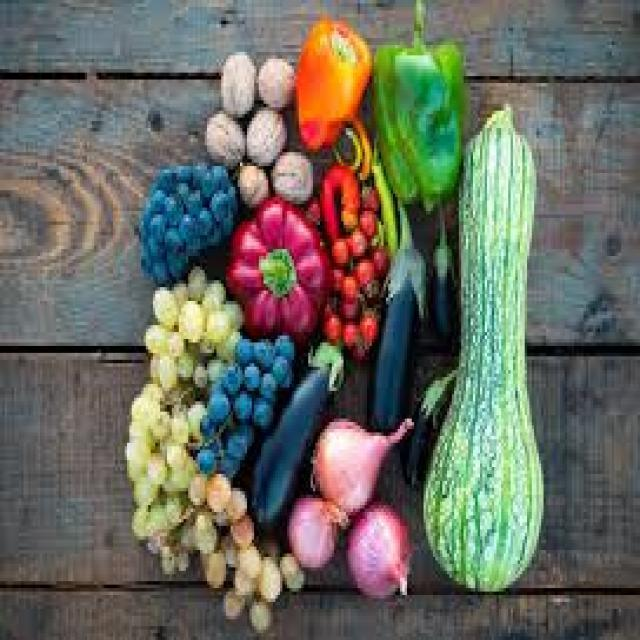Wet: (428, 98, 548, 594), (288, 417, 416, 597), (232, 201, 332, 341), (156, 181, 230, 367), (294, 19, 371, 148), (136, 393, 188, 531)
